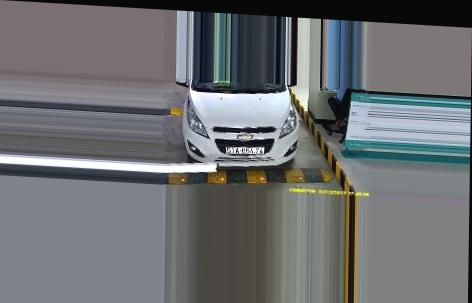License_Plate: (223, 143, 267, 160)
